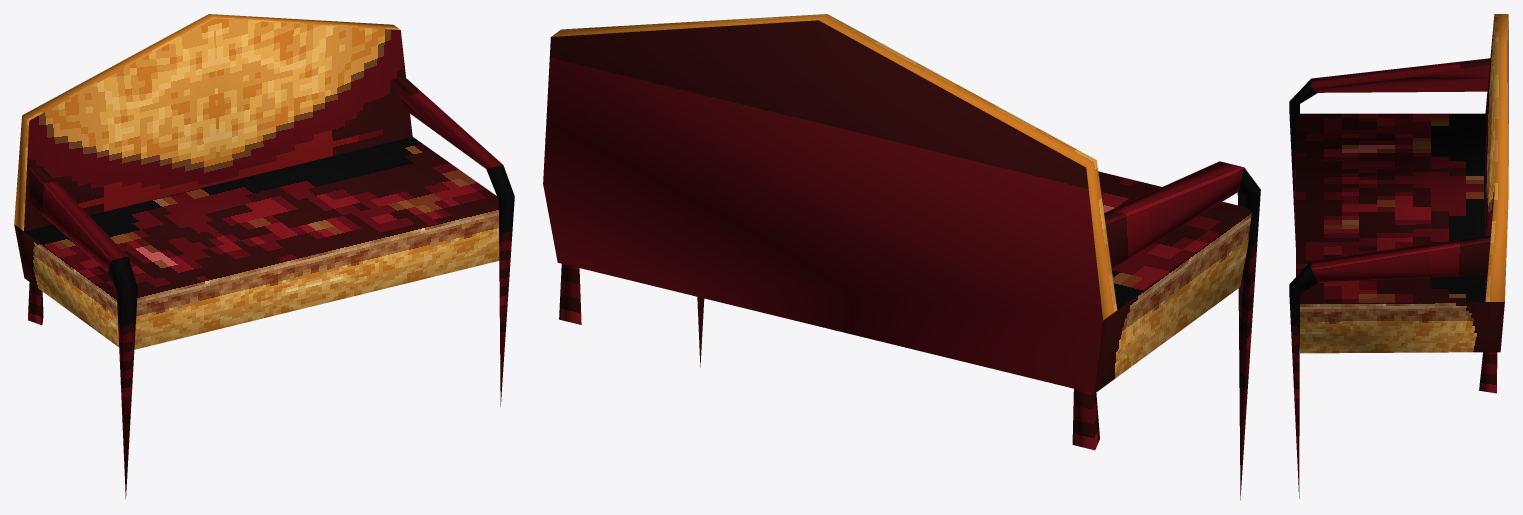
3 renders of one model, left to right at view 1: azimuth 30°, elevation 25°; view 2: azimuth 150°, elevation 25°; view 3: azimuth 270°, elevation 25°, orthographic. The views are drawn at different scales.
Parts seen in each view (by area): view 1: 3044IMRL02_05; view 2: 3044IMRL02_05; view 3: 3044IMRL02_05.
Part boxes in pixels (x1,y1,x2,y2): 3044IMRL02_05: [14, 14, 514, 498]; 3044IMRL02_05: [543, 14, 1260, 500]; 3044IMRL02_05: [1289, 14, 1508, 498].
Size of the model in its own units: 1.9 by 1.68 by 0.9229.
Materials: 3 (3 with a texture image).
